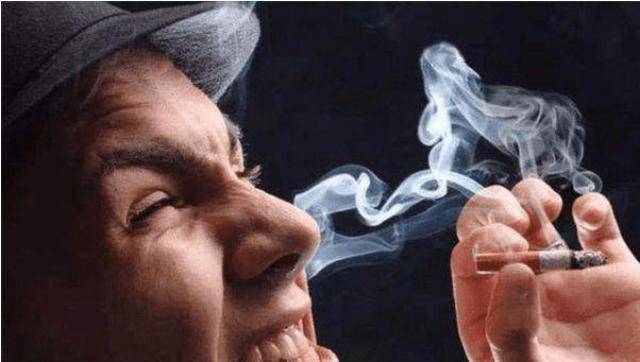SafeDriving: (119, 172, 207, 238)
Smoking: (476, 252, 608, 272)
